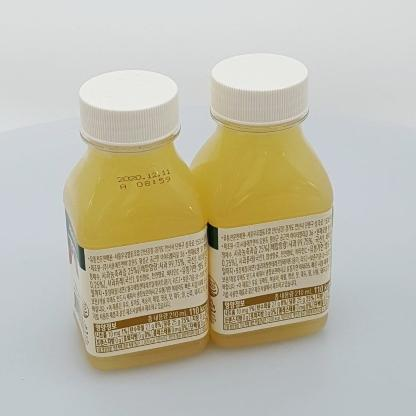-----------210ML: (63, 70, 209, 370), (188, 53, 333, 348)
